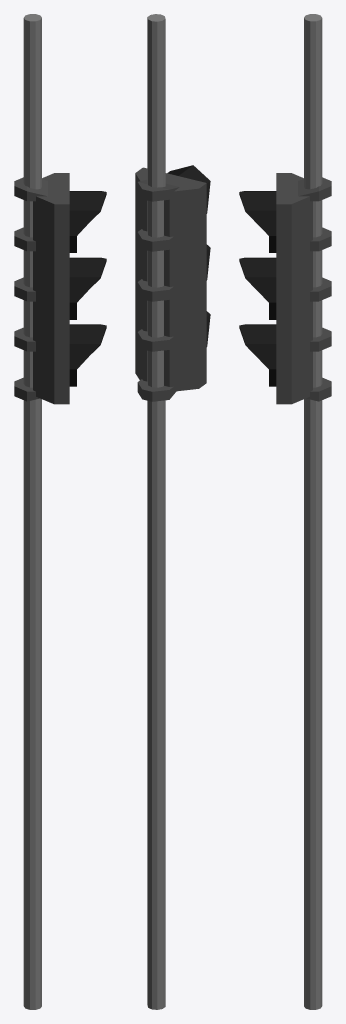
Rendered from TrafficLight1.fbx.
3 views of the same model, side by side, from view 1: azimuth 90°, elevation 25°; view 2: azimuth 150°, elevation 25°; view 3: azimuth 270°, elevation 25° (orthographic).
Parts seen in each view (by area): view 1: Pole, Lights; view 2: Pole, Lights; view 3: Pole, Lights.
Part boxes in pixels (bbox=[...]): Pole: bbox=[23, 14, 41, 1009]; Lights: bbox=[14, 173, 106, 404]; Pole: bbox=[147, 14, 165, 1009]; Lights: bbox=[135, 165, 210, 401]; Pole: bbox=[304, 14, 322, 1009]; Lights: bbox=[239, 173, 331, 404].
Size of the model in its own units: 40 by 592 by 49.99.
